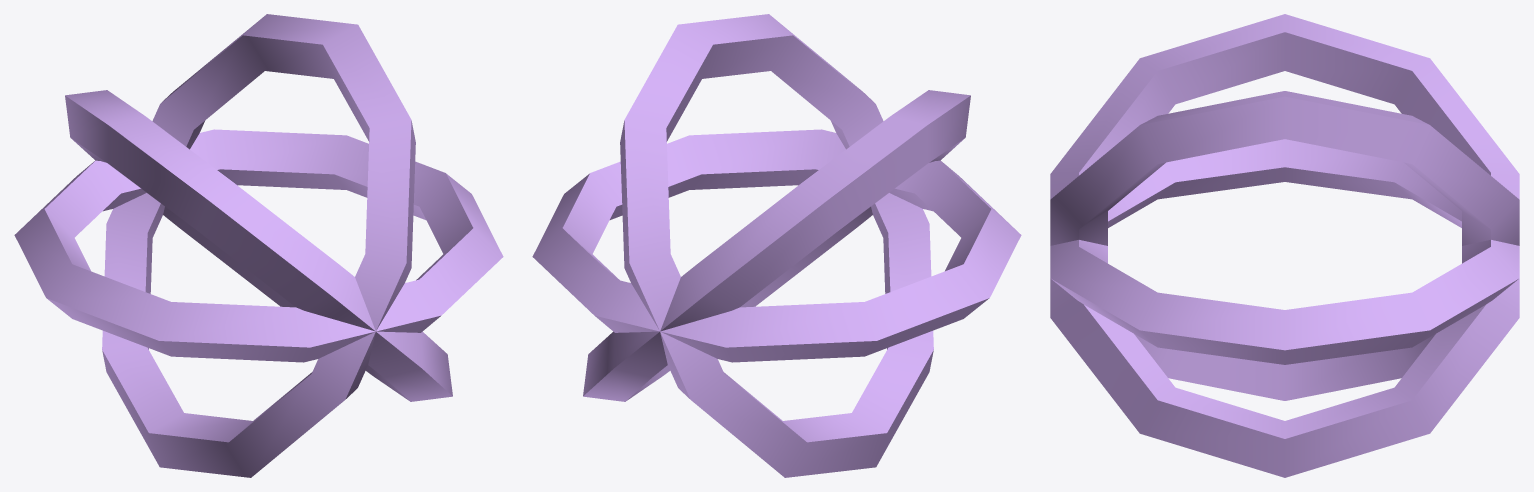
Rendered from boom_radius_mesh.glb.
3 views of the same model, side by side, from view 1: azimuth 30°, elevation 25°; view 2: azimuth 150°, elevation 25°; view 3: azimuth 270°, elevation 25° (orthographic).
Parts seen in each view (by area): view 1: Torus.003; view 2: Torus.003; view 3: Torus.003.
Part boxes in pixels (<box>): Torus.003: <box>14,14,503,477</box>; Torus.003: <box>532,14,1021,477</box>; Torus.003: <box>1050,14,1519,477</box>.
Size of the model in its own units: 2.28 by 2.02 by 2.17.
Materials: 1 (1 with a texture image).
